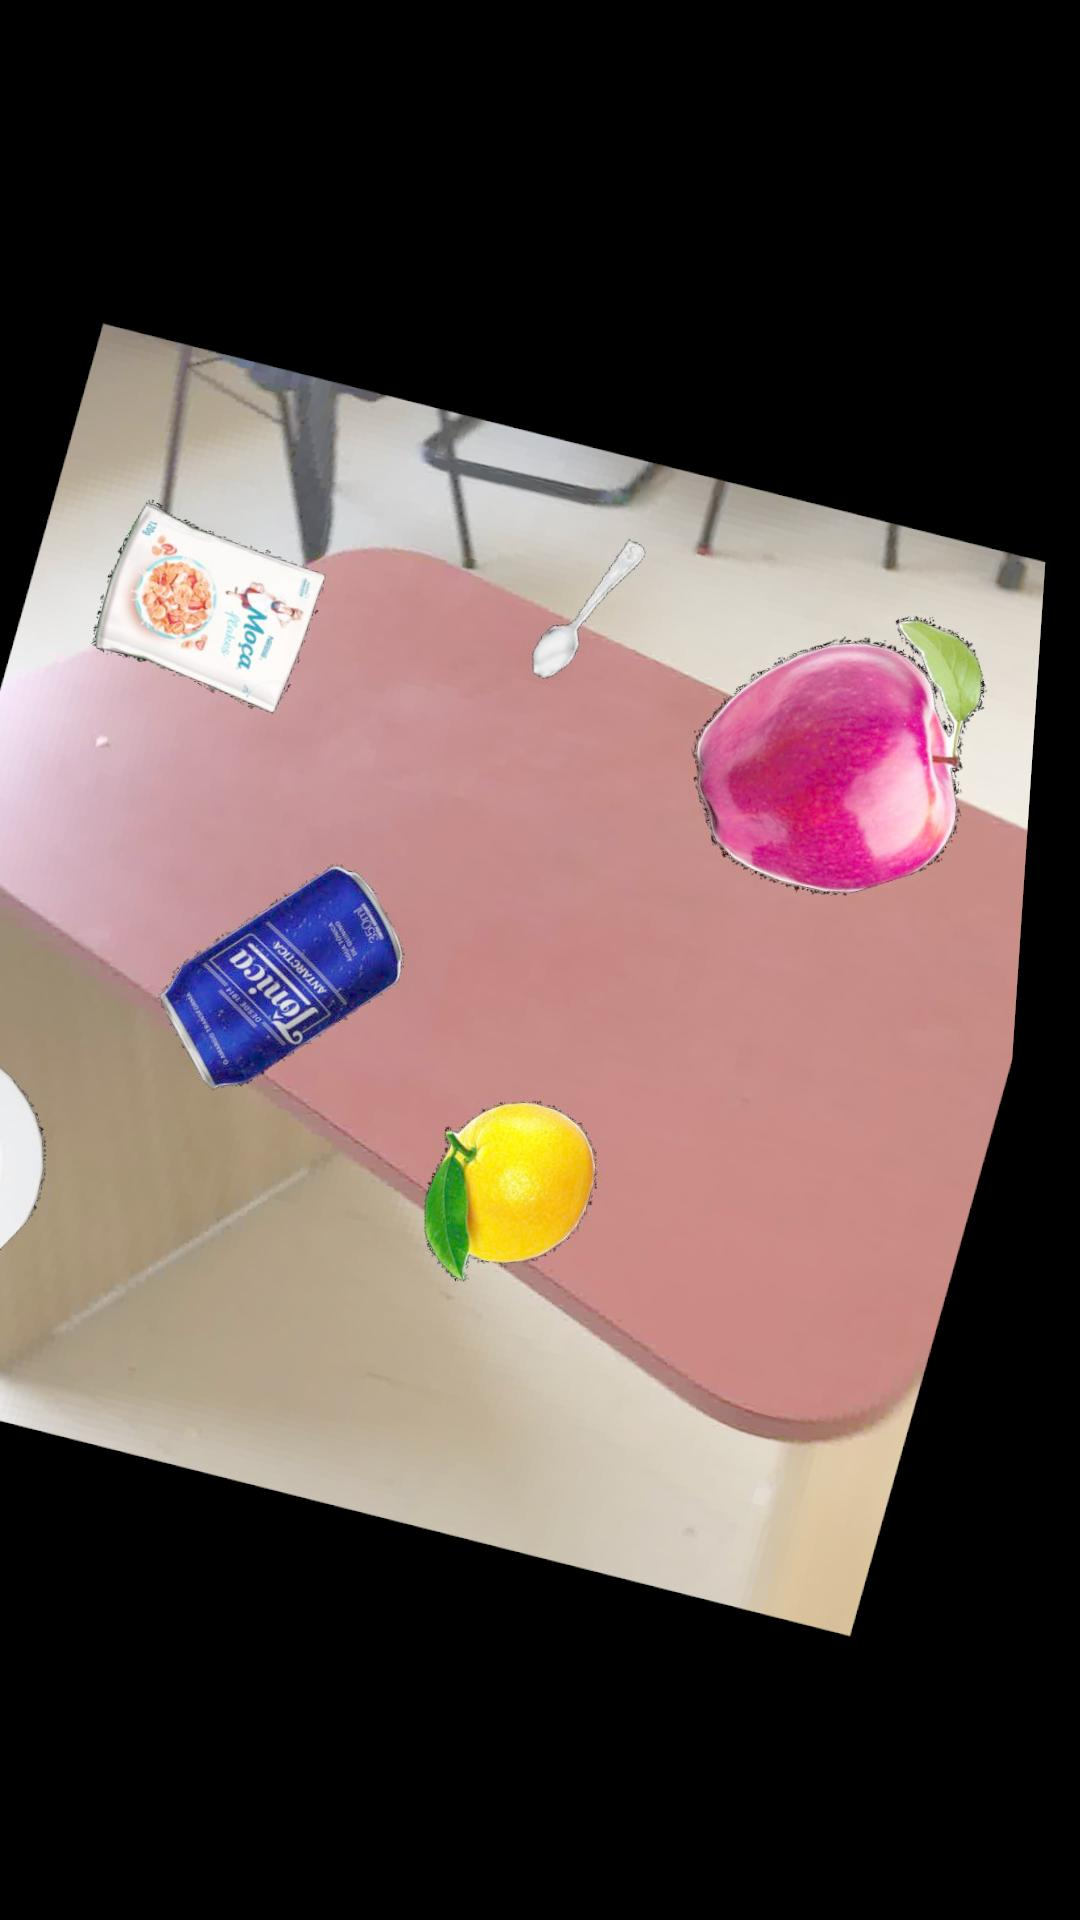apple: (702, 611, 994, 890)
corn flakes: (100, 502, 334, 713)
orange: (440, 1098, 613, 1279)
plate: (0, 1055, 62, 1267)
spoon: (541, 535, 653, 675)
tonic: (174, 864, 417, 1089)
